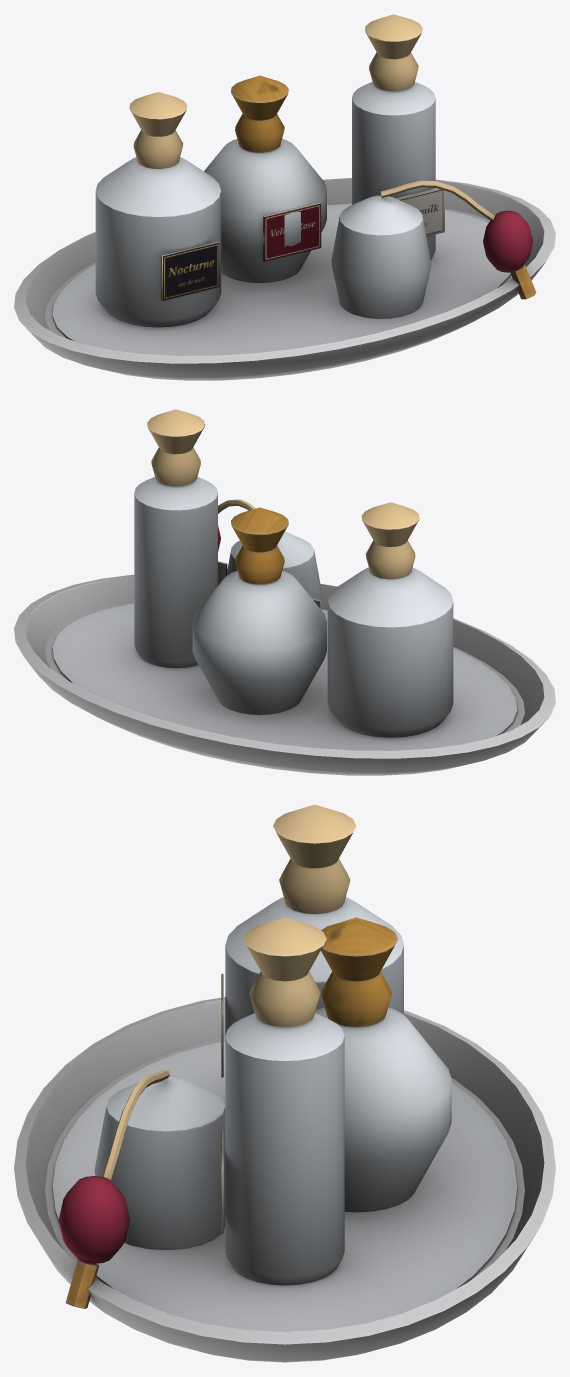
File: PerfumeTray.fbx
The picture shows the model from 3 angles, top to bottom: view 1: azimuth 30°, elevation 25°; view 2: azimuth 150°, elevation 25°; view 3: azimuth 270°, elevation 25°; orthographic projection. The views are drawn at different scales.
Parts seen in each view (by area): view 1: PerfumeTray_Main, PerfumeTray_Glass; view 2: PerfumeTray_Main, PerfumeTray_Glass; view 3: PerfumeTray_Main, PerfumeTray_Glass.
Boxes of the visible parts, <box> form: PerfumeTray_Main: <box>14,14,555,380</box>; PerfumeTray_Glass: <box>95,81,435,327</box>; PerfumeTray_Main: <box>14,409,555,775</box>; PerfumeTray_Glass: <box>134,476,453,737</box>; PerfumeTray_Main: <box>14,804,555,1362</box>; PerfumeTray_Glass: <box>94,897,451,1285</box>.
Size of the model in its own units: 140 by 70.5 by 91.
